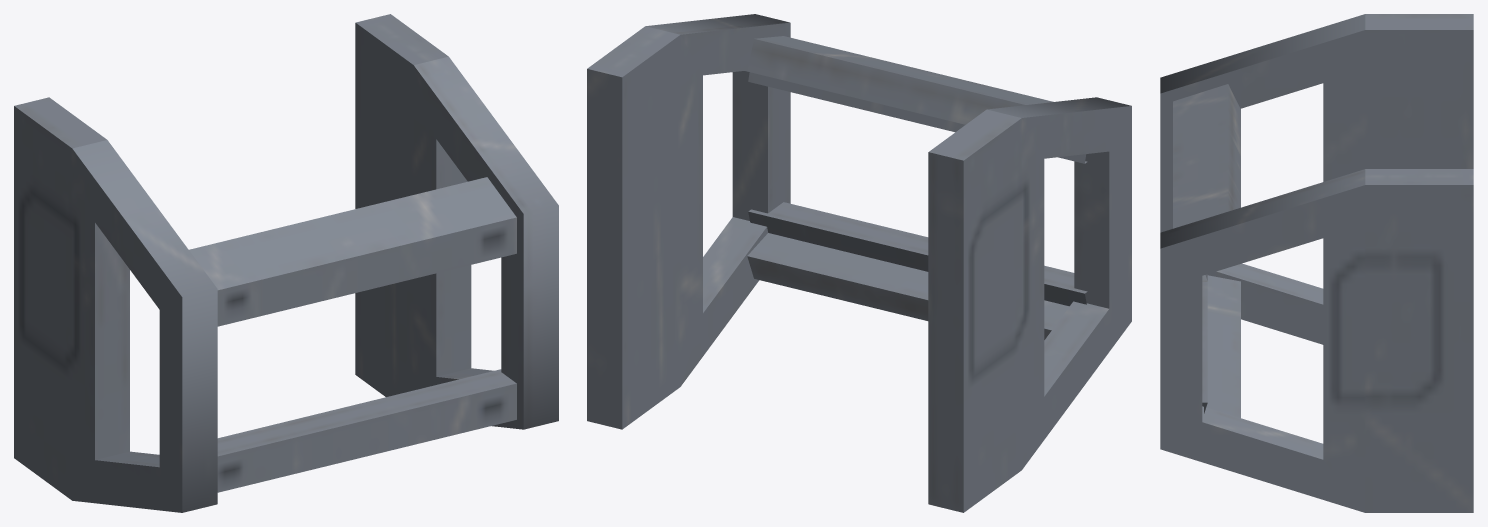
The model's file is Pfb_Soda_ExhaustSystem1__2.fbx.
3 renders of one model, left to right at view 1: azimuth 30°, elevation 25°; view 2: azimuth 150°, elevation 25°; view 3: azimuth 270°, elevation 25°, orthographic. The views are drawn at different scales.
Parts seen in each view (by area): view 1: MAT_Soda_Pipe 2; view 2: MAT_Soda_Pipe 2; view 3: MAT_Soda_Pipe 2.
Part boxes in pixels (box(x1,y1,x2,y2)): MAT_Soda_Pipe 2: box(14, 14, 558, 512); MAT_Soda_Pipe 2: box(587, 14, 1131, 512); MAT_Soda_Pipe 2: box(1160, 14, 1473, 512).
Bounding box in the file's own units: 0.4997 × 0.4467 × 0.3867.
1 material, 1 textured.
